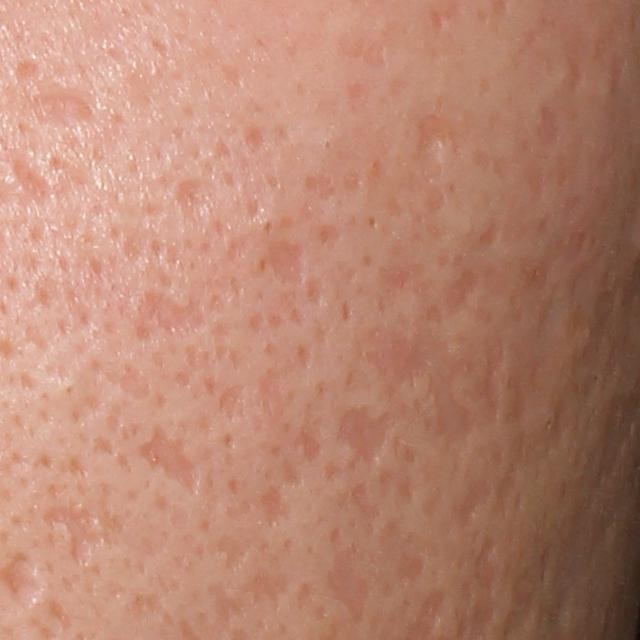atrophic_scar: (382, 331, 481, 453), (137, 418, 205, 495), (331, 403, 407, 469), (44, 498, 105, 573), (140, 290, 209, 338), (328, 546, 368, 625), (265, 232, 313, 292), (9, 158, 56, 208), (241, 566, 292, 612), (31, 92, 96, 124), (484, 334, 506, 424), (443, 269, 481, 317), (208, 583, 249, 626), (458, 482, 496, 523), (173, 180, 216, 215), (216, 534, 252, 572), (474, 215, 513, 250), (215, 384, 247, 425), (475, 539, 498, 594), (351, 480, 381, 521), (260, 488, 294, 524), (297, 422, 325, 464), (242, 121, 276, 155), (13, 53, 45, 87), (394, 551, 425, 586)
